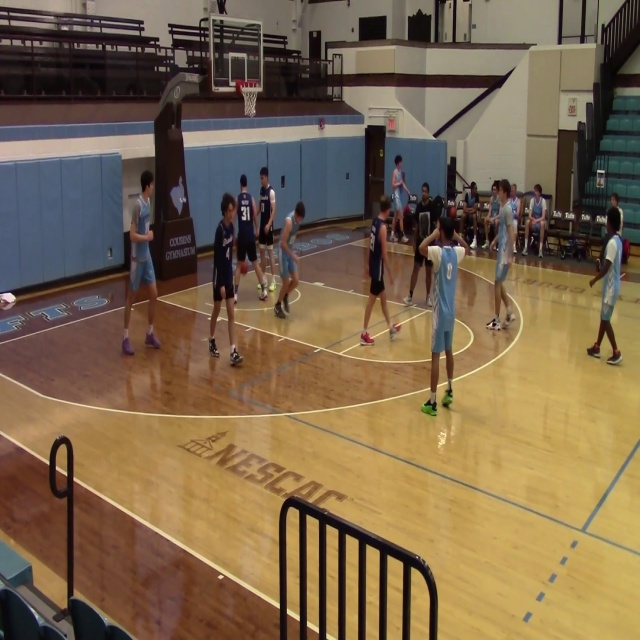Basketball: (240, 262, 248, 274)
